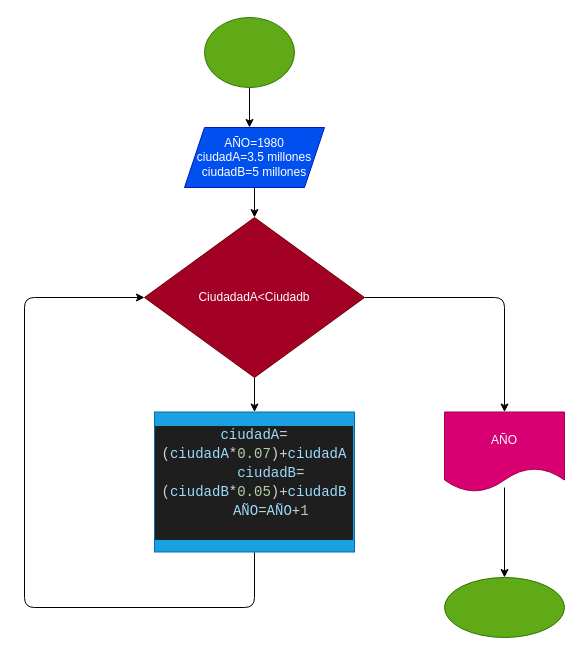
The diagram is 582 pixels wide and 655 high, and some of its shapes have lost their labels. The shapes that lost their labels are listed below. From the top down, each one's box as (x1, y1, x2, y2) in pixels, then its label:
(204, 16, 294, 88): INICIO
(444, 576, 564, 638): FIN
